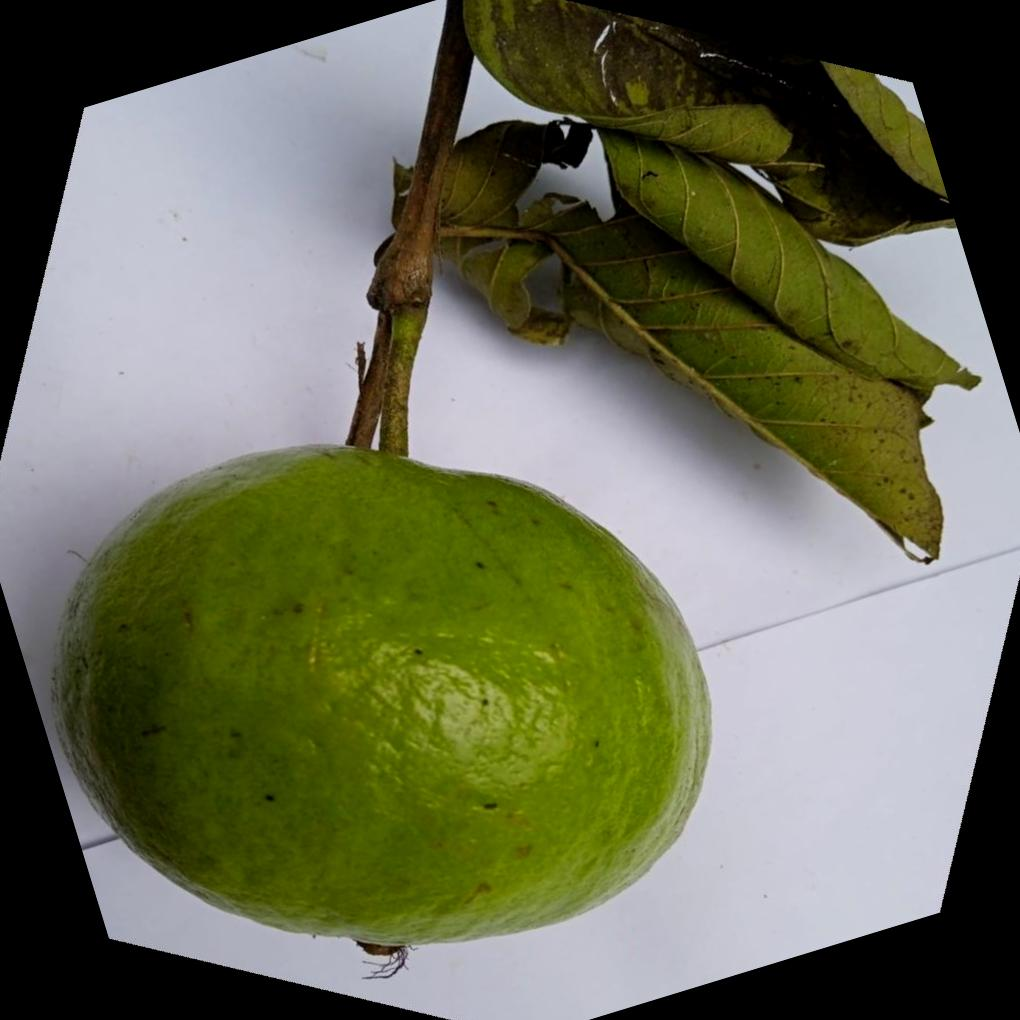FreshGuava: (48, 444, 709, 953)
